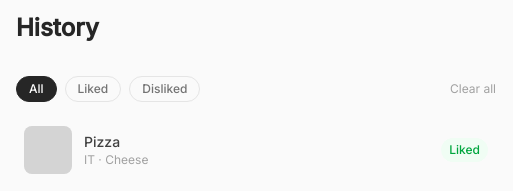
Scenario: HistoryPage › clears history when clicking Clear all
Click the button "Clear all" at {"x": 473, "y": 89}, box [450,81,496,97]
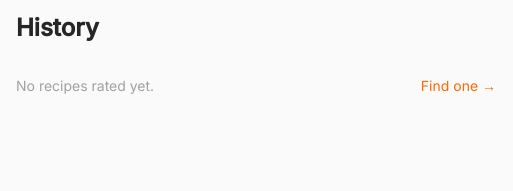
Check: the text "No recipes rated yet." is shown, box [16,76,154,96]
